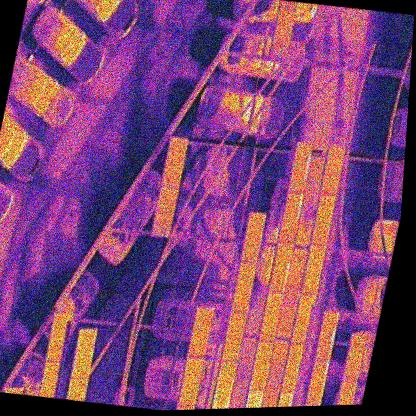Diode: (285, 141, 314, 195), (278, 190, 304, 244), (211, 357, 238, 409), (268, 241, 294, 292), (314, 310, 340, 361), (304, 359, 329, 406)
Hotspot: (150, 186, 179, 238), (248, 340, 275, 394)
Normal: (238, 210, 267, 263), (230, 260, 259, 313), (68, 328, 97, 381), (220, 310, 248, 363), (187, 306, 215, 358), (319, 144, 346, 197), (161, 136, 188, 189), (300, 243, 327, 296), (177, 355, 204, 407), (258, 289, 284, 342), (310, 194, 337, 245), (270, 6, 297, 56), (44, 312, 70, 363), (290, 294, 315, 345), (342, 333, 367, 384), (279, 343, 303, 393), (334, 378, 358, 405)
